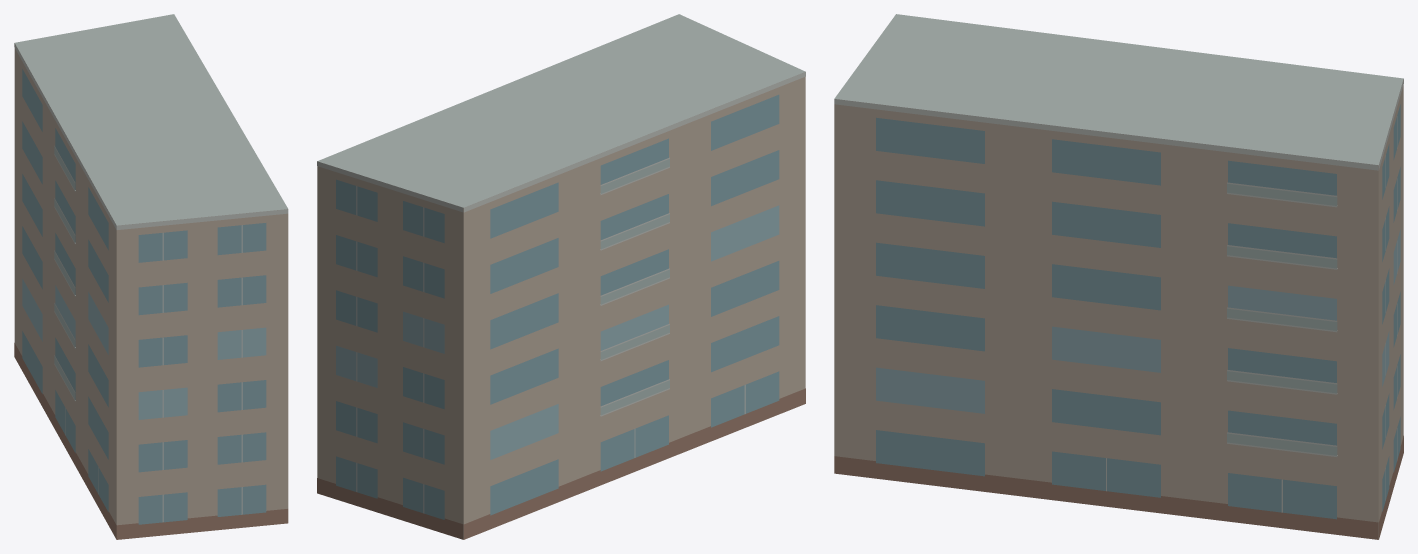
Rendered from survey-upis-32930119.glb.
The picture shows the model from 3 angles, left to right: view 1: azimuth 30°, elevation 25°; view 2: azimuth 150°, elevation 25°; view 3: azimuth 270°, elevation 25°; orthographic projection. The views are drawn at different scales.
Parts seen in each view (by area): view 1: survey-upis-32930119.tmp; view 2: survey-upis-32930119.tmp; view 3: survey-upis-32930119.tmp.
Part boxes in pixels (<box>): survey-upis-32930119.tmp: <box>14,14,288,539</box>; survey-upis-32930119.tmp: <box>317,14,805,539</box>; survey-upis-32930119.tmp: <box>834,14,1403,539</box>.
Bounding box in the file's own units: 14.46 × 16.7 × 23.01.
